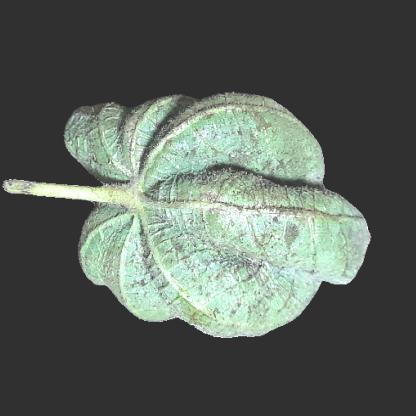curl_stage2: (112, 130, 180, 247), (90, 209, 136, 275)
sooty: (188, 169, 308, 298), (189, 101, 276, 165), (128, 246, 185, 319), (314, 208, 362, 283)
